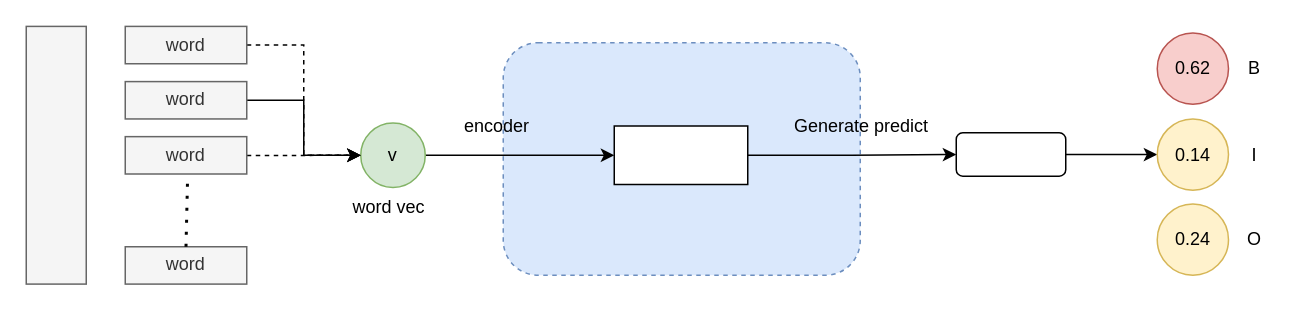
The diagram is 1302 pixels wide and 311 high, and some of its shapes have lost their labels. Each missing label, with the box of its shape:
NN: (613, 124, 748, 184)
softmax: (955, 131, 1066, 176)
Text: (25, 25, 86, 284)
